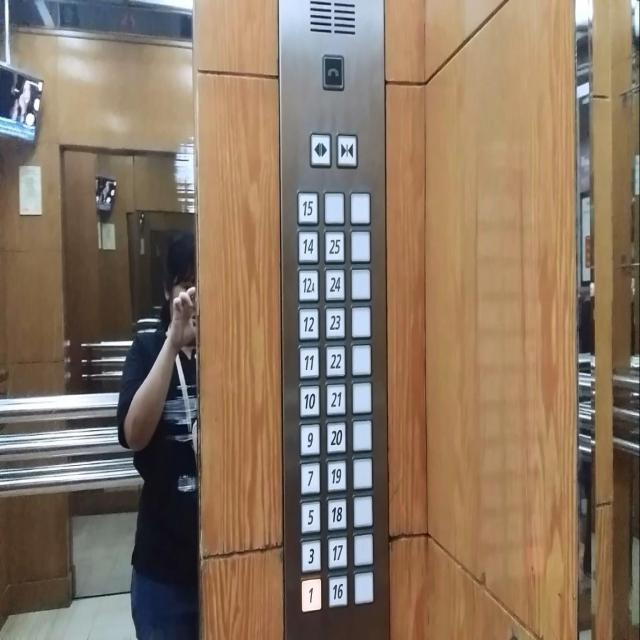1: (300, 575, 322, 614)
10: (298, 382, 320, 418)
11: (298, 344, 320, 379)
12: (297, 306, 320, 343)
12A: (297, 266, 319, 302)
14: (296, 228, 319, 264)
15: (296, 188, 319, 226)
16: (326, 571, 349, 609)
17: (326, 532, 347, 570)
18: (326, 496, 348, 533)
19: (326, 458, 347, 494)
20: (325, 418, 347, 458)
21: (325, 382, 346, 416)
22: (325, 345, 346, 377)
23: (324, 306, 346, 340)
24: (324, 268, 346, 302)
25: (323, 230, 346, 263)
3: (300, 538, 322, 574)
5: (298, 498, 322, 535)
7: (298, 461, 320, 497)
9: (298, 421, 320, 457)
call: (322, 53, 344, 90)
close: (336, 132, 358, 168)
empty: (352, 569, 374, 606), (350, 266, 372, 302), (350, 342, 372, 378), (351, 418, 373, 454), (352, 493, 374, 529), (350, 304, 372, 339), (350, 228, 371, 264), (352, 456, 373, 492), (352, 531, 373, 567), (324, 190, 344, 226), (350, 191, 370, 226), (352, 382, 372, 416)
open: (308, 132, 332, 168)
